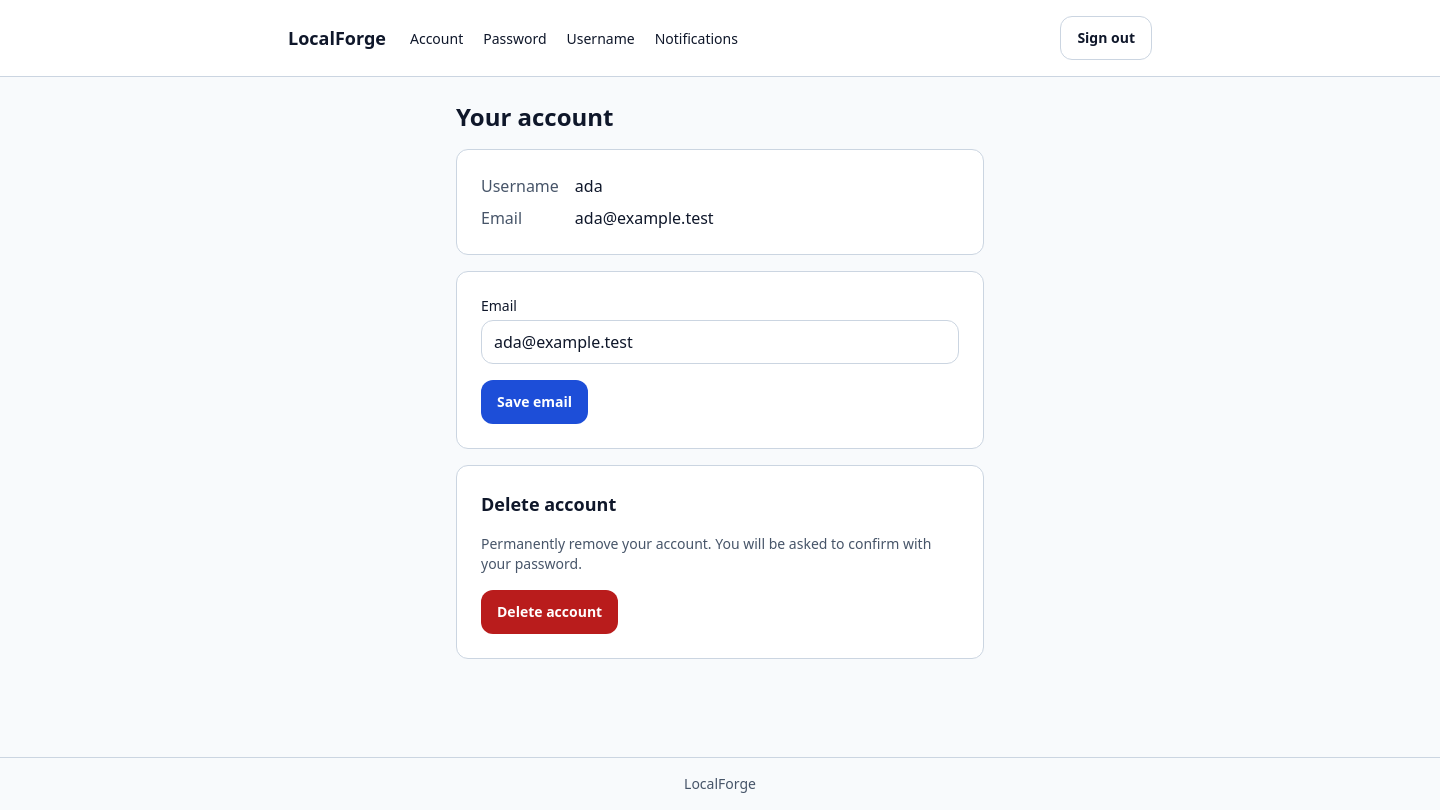
Test: sign out › ends the session and returns to sign-in
Click the button "Sign out".
click(1106, 38)  # box [1060,16,1152,60]
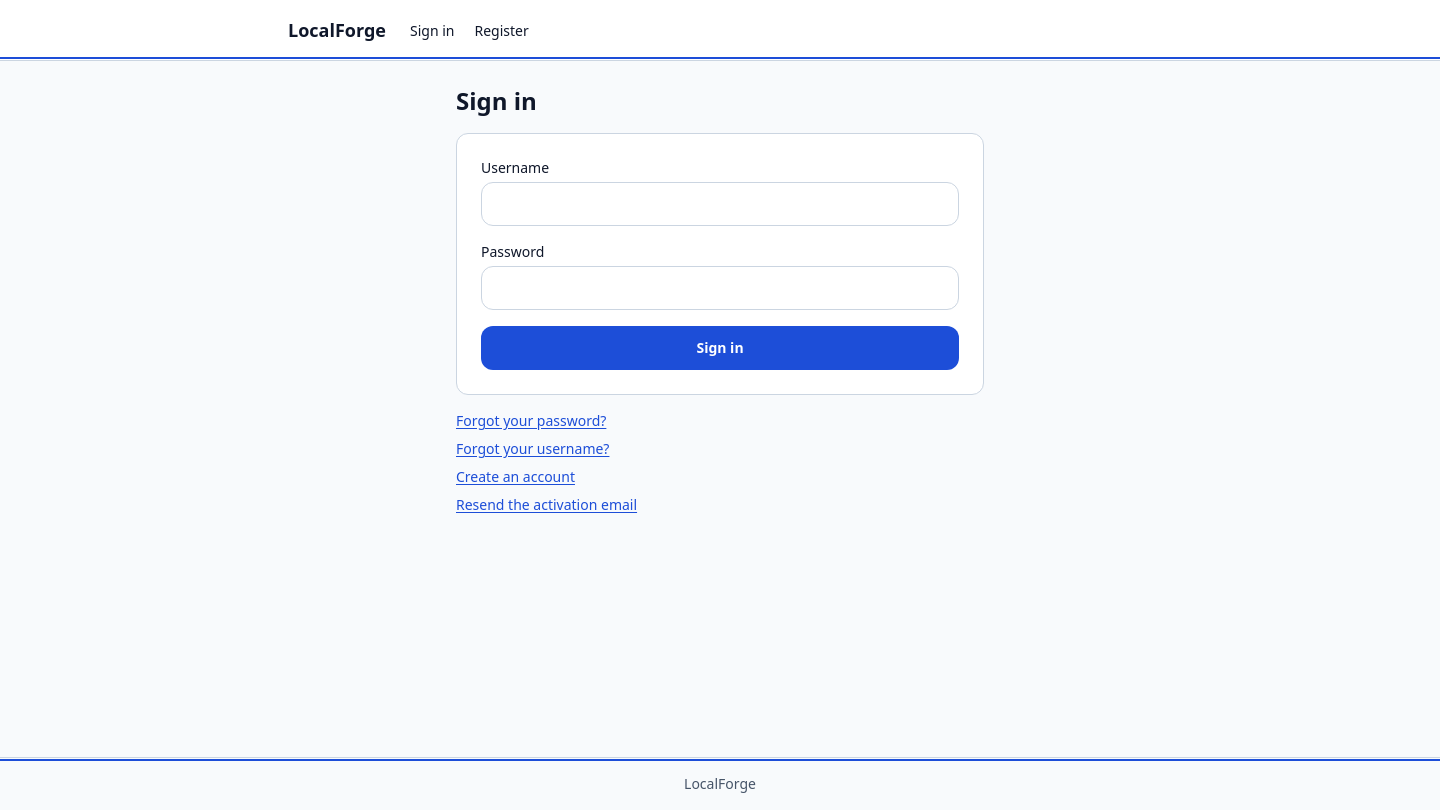
Expected: the heading "Sign in" is shown, [456,84,537,117]
Expected: the button "Sign out" is gone
